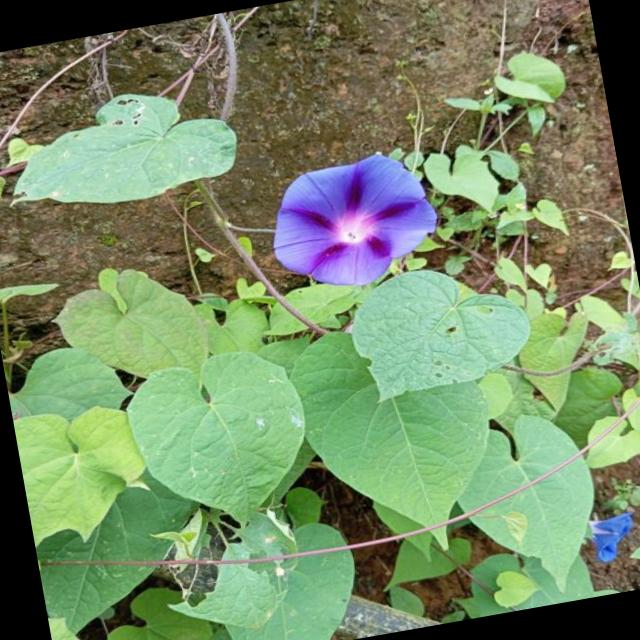ipomoea: (255, 143, 451, 302)
